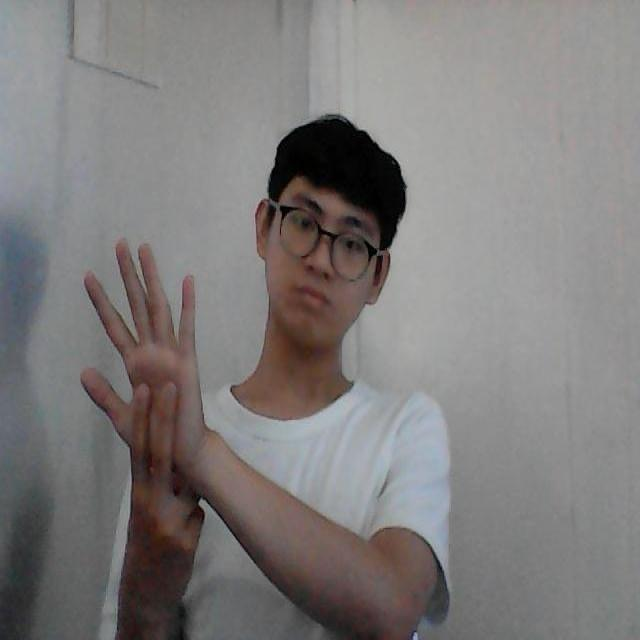N: (75, 208, 211, 509)
